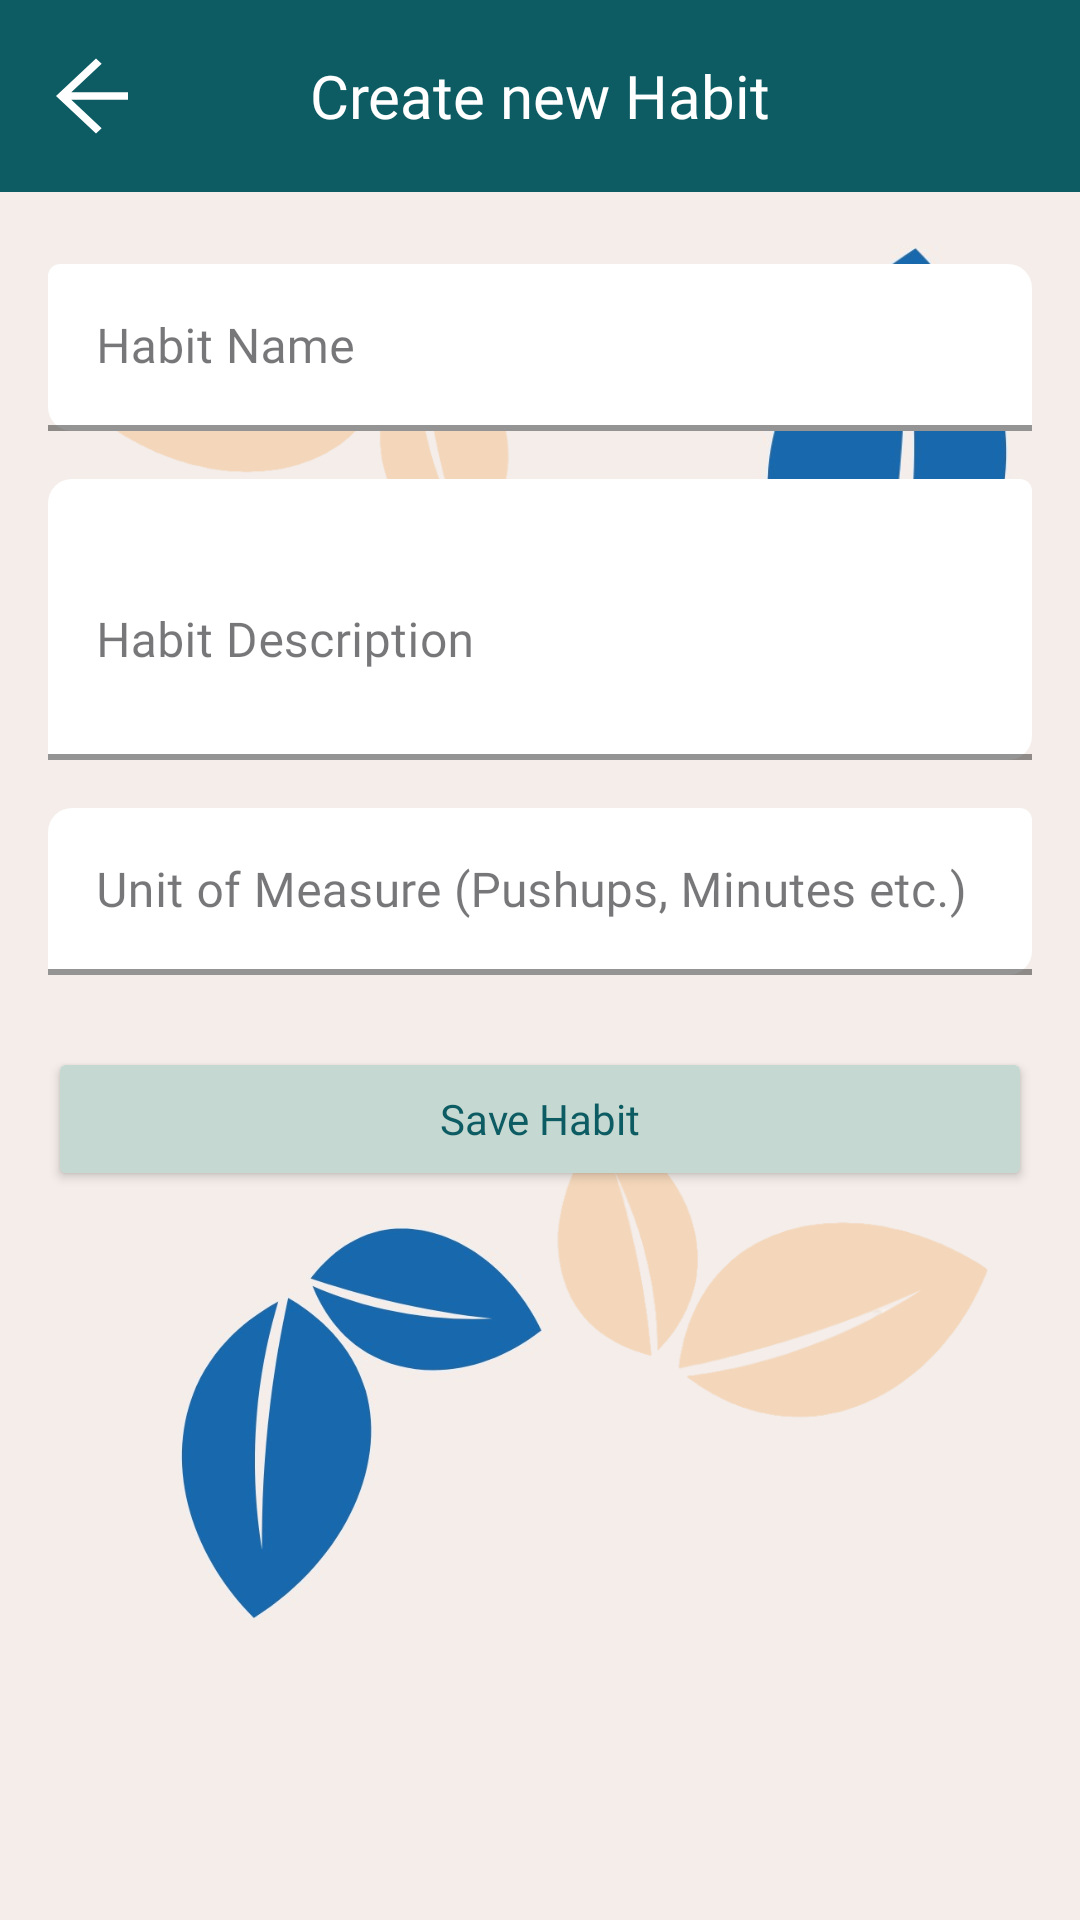

Screen size 1080*1920. Icon name, then its box in pixels as BBox(x1, y1, x2, y2):
Back: BBox(56, 58, 128, 134)
